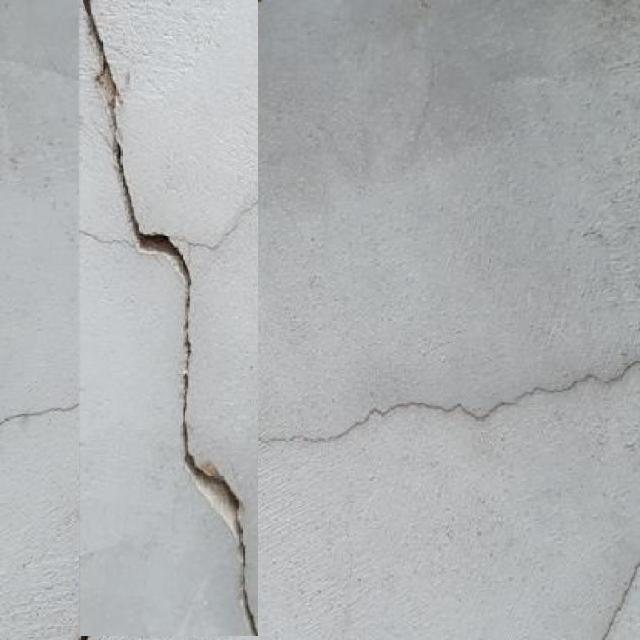crack: (74, 0, 258, 635)
